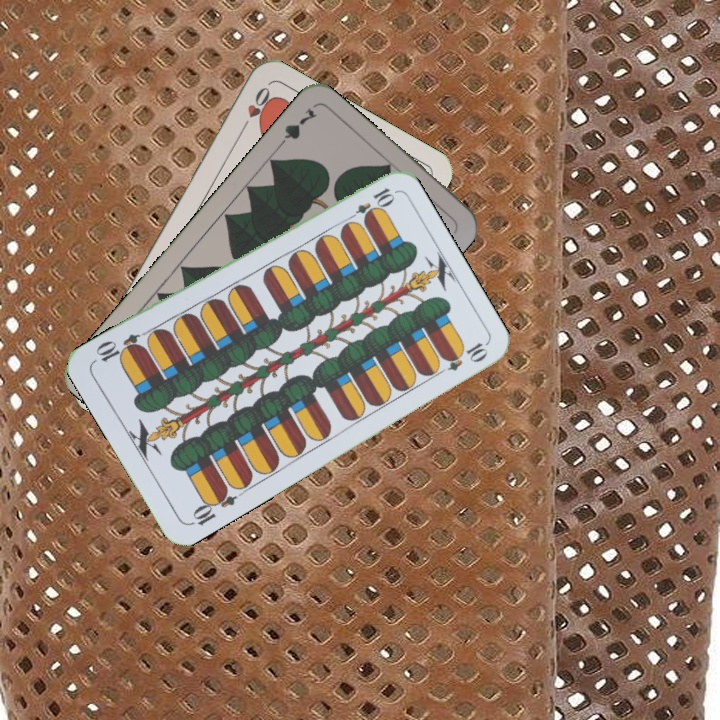E10: (186, 483, 239, 529), (342, 183, 397, 226)
G7: (272, 104, 320, 153)
HO: (236, 82, 275, 136)
